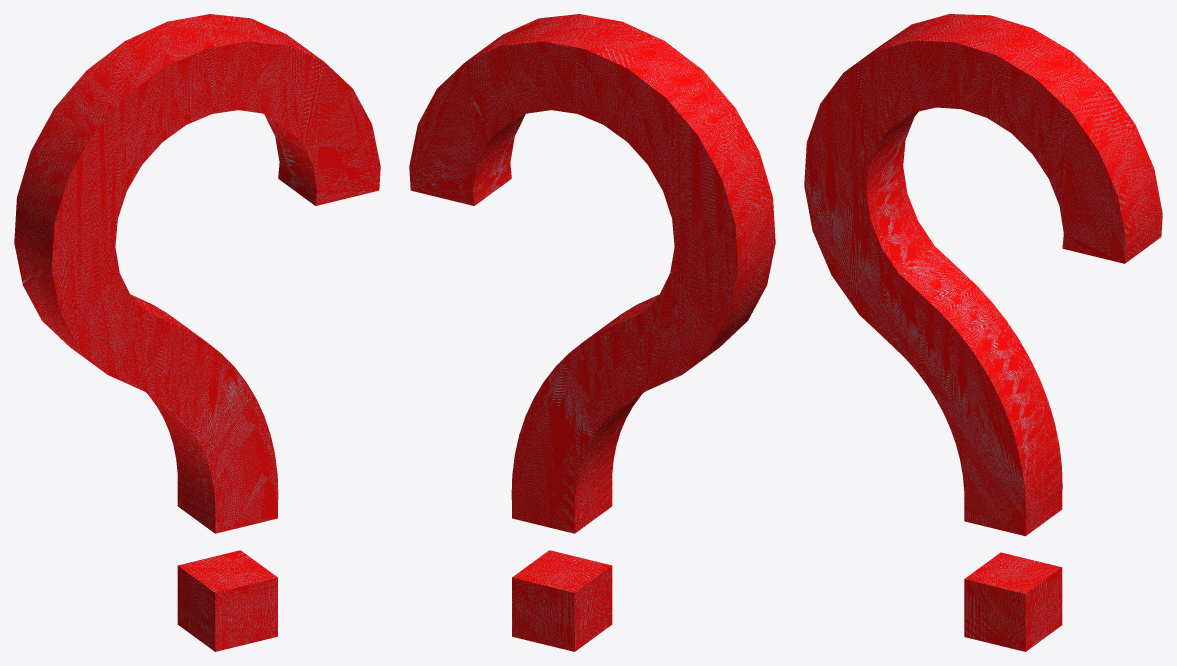
3 renders of one model, left to right at view 1: azimuth 30°, elevation 25°; view 2: azimuth 150°, elevation 25°; view 3: azimuth 330°, elevation 25°, orthographic. The views are drawn at different scales.
Visible parts, largest first — view 1: group_0 (×2); view 2: group_0 (×2); view 3: group_0 (×2).
Boxes of the visible parts, x1=… form: group_0 (×2): x1=14, y1=14, x2=380, y2=651; group_0 (×2): x1=409, y1=14, x2=775, y2=651; group_0 (×2): x1=804, y1=14, x2=1162, y2=651.
Bounding box in the file's own units: 162 × 31.89 × 285.
